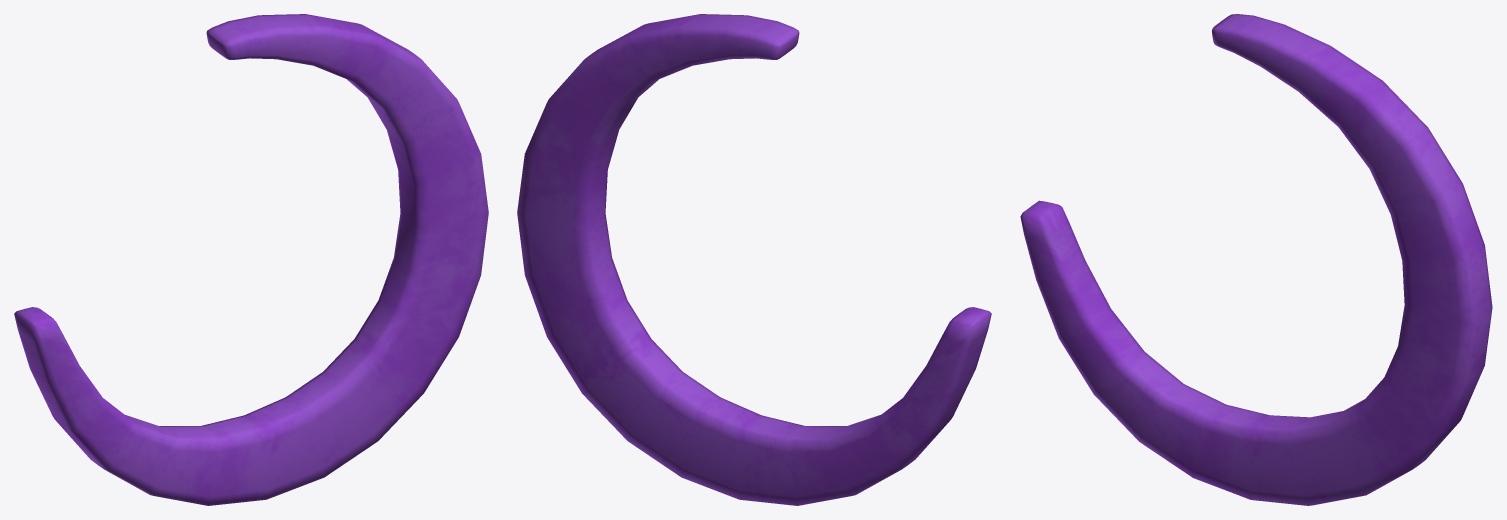
Rendered from GFRIEND_03.glb.
3 renders of one model, left to right at view 1: azimuth 30°, elevation 25°; view 2: azimuth 150°, elevation 25°; view 3: azimuth 330°, elevation 25°, orthographic.
Bounding box in the file's own units: 0.1429 × 0.1405 × 0.0128.
1 material, 1 textured.
